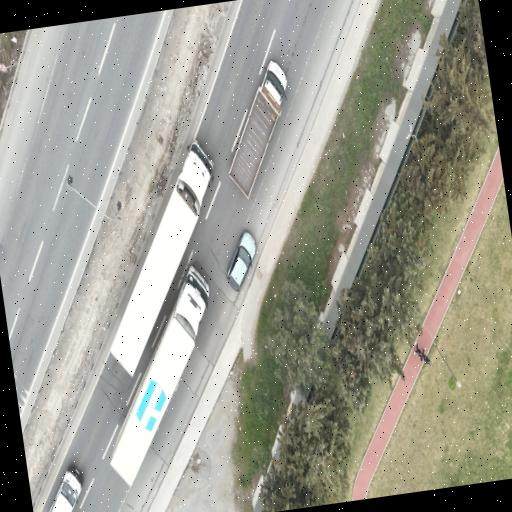car: (226, 231, 255, 291), (49, 467, 81, 511)
person: (422, 349, 433, 370), (414, 344, 426, 360)
truck: (110, 140, 212, 375), (110, 265, 208, 484), (228, 61, 286, 197)
